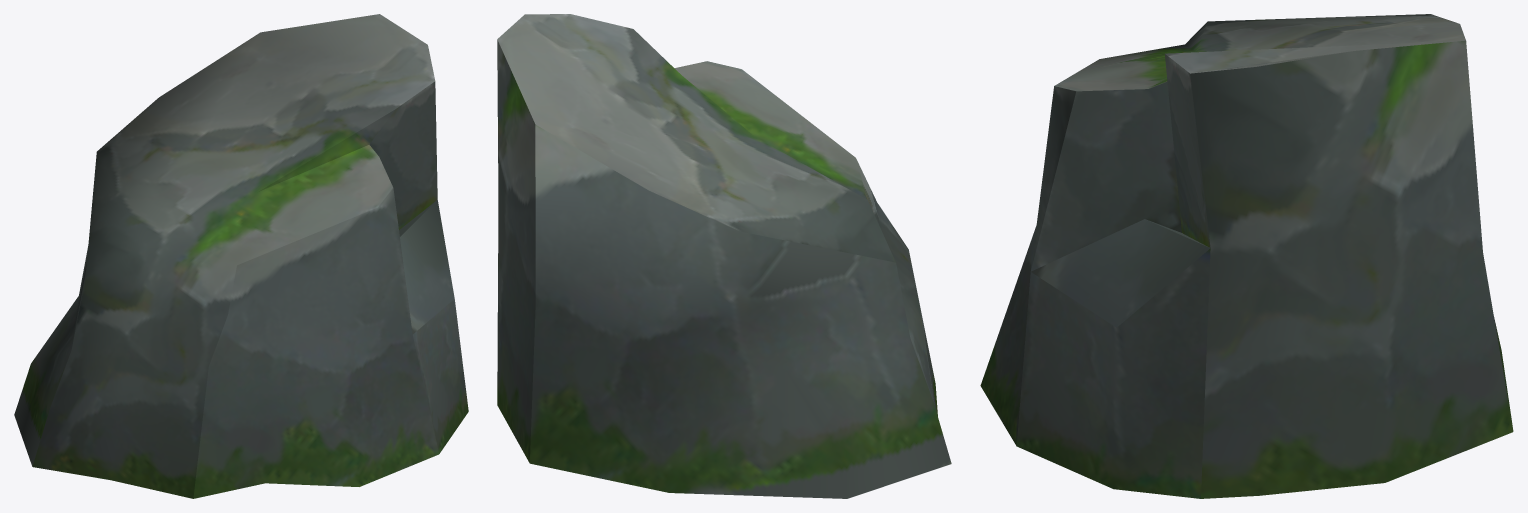
File: scene_luoliante_strone03.FBX
The picture shows the model from 3 angles, left to right: view 1: azimuth 30°, elevation 25°; view 2: azimuth 150°, elevation 25°; view 3: azimuth 270°, elevation 25°; orthographic projection. The views are drawn at different scales.
Parts seen in each view (by area): view 1: scene_luoliante_strone03; view 2: scene_luoliante_strone03; view 3: scene_luoliante_strone03.
Part boxes in pixels (box(x1,y1,x2,y2)): scene_luoliante_strone03: box(14, 14, 468, 498); scene_luoliante_strone03: box(497, 14, 951, 498); scene_luoliante_strone03: box(980, 14, 1513, 498).
Size of the model in its own units: 167 by 130 by 143.
